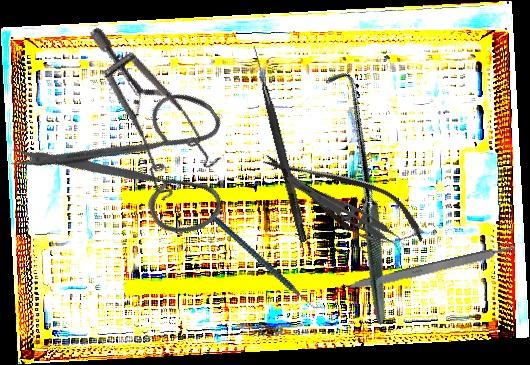Chopper: (212, 191, 326, 335)
Hook Surgical: (231, 67, 485, 325), (248, 45, 310, 243)
Iris Scissors: (3, 39, 266, 299)
Micro Scissor: (251, 133, 436, 265)
Scalpel Handle: (342, 243, 520, 295)
Speculum: (34, 25, 249, 216)
Tissue Forceps: (278, 171, 412, 257)
